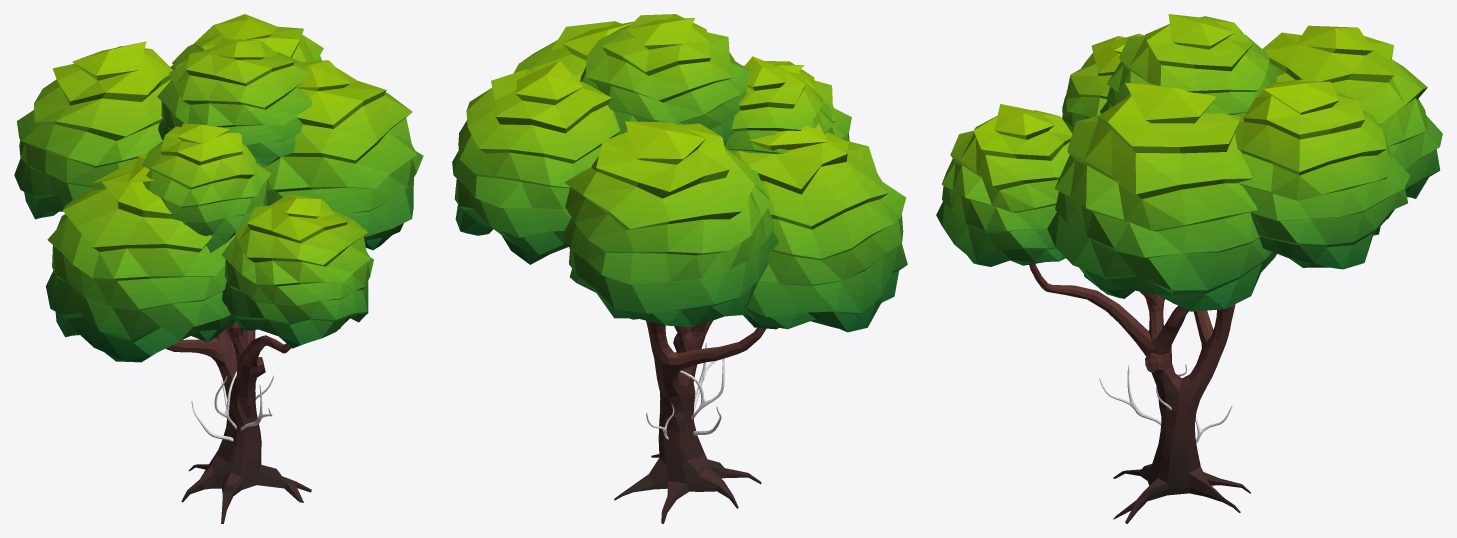
File: tree_savannah_mod_01.fbx
The picture shows the model from 3 angles, left to right: view 1: azimuth 30°, elevation 25°; view 2: azimuth 150°, elevation 25°; view 3: azimuth 270°, elevation 25°; orthographic projection. The views are drawn at different scales.
Parts seen in each view (by area): view 1: leaves02, tree02, tree01; view 2: leaves02, tree02, tree01; view 3: leaves02, tree02, tree01.
Boxes of the visible parts, x1=… form: leaves02: x1=14, y1=14, x2=423, y2=362; tree02: x1=165, y1=322, x2=311, y2=523; tree01: x1=191, y1=371, x2=273, y2=441; leaves02: x1=452, y1=14, x2=907, y2=332; tree02: x1=614, y1=320, x2=765, y2=523; tree01: x1=646, y1=343, x2=724, y2=439; leaves02: x1=936, y1=14, x2=1442, y2=311; tree02: x1=1029, y1=263, x2=1250, y2=523; tree01: x1=1099, y1=364, x2=1232, y2=442.
Bounding box in the file's own units: 6.65 × 7.55 × 7.97.
